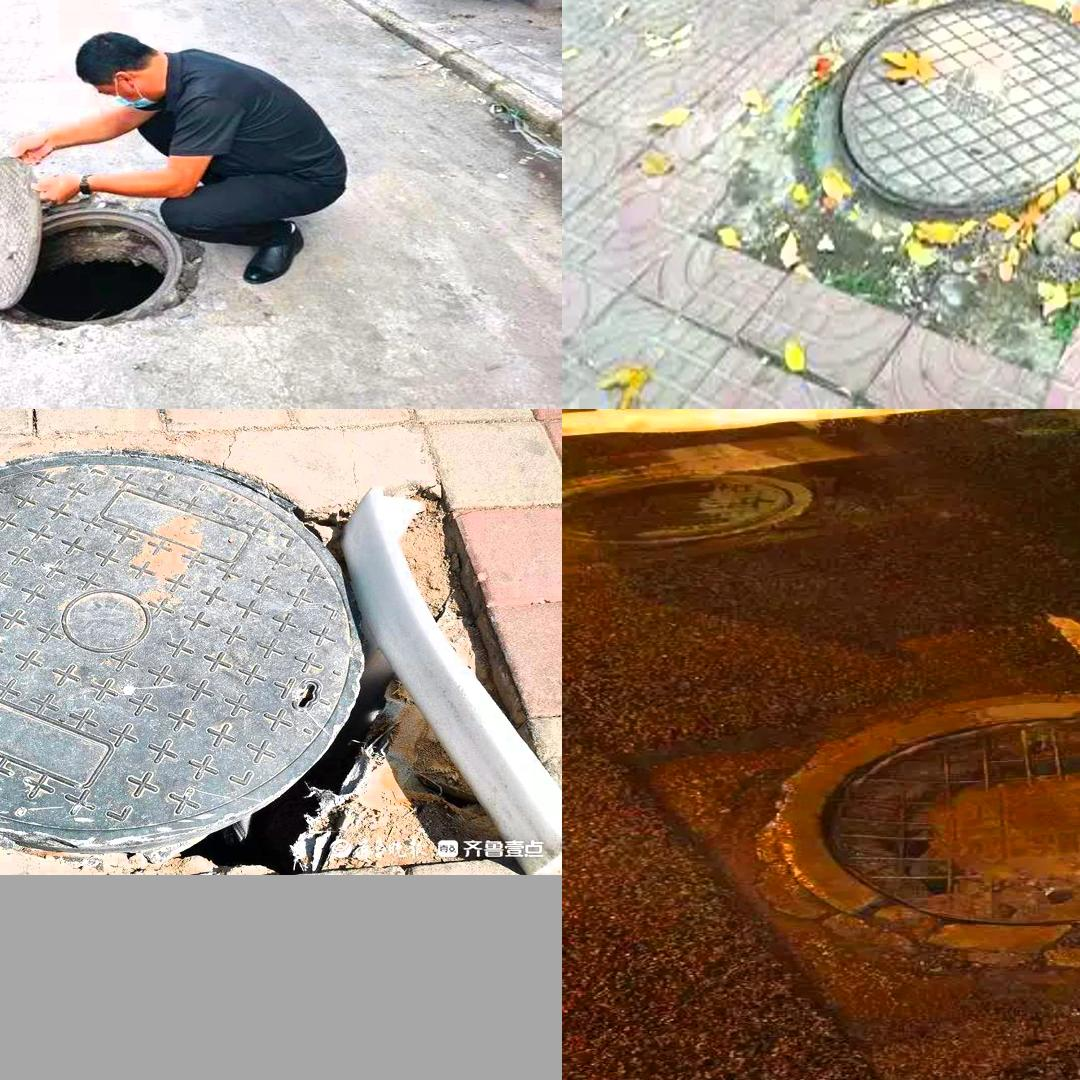circle: (0, 452, 504, 861), (655, 666, 1080, 1042), (734, 0, 1080, 360), (0, 169, 253, 347)
